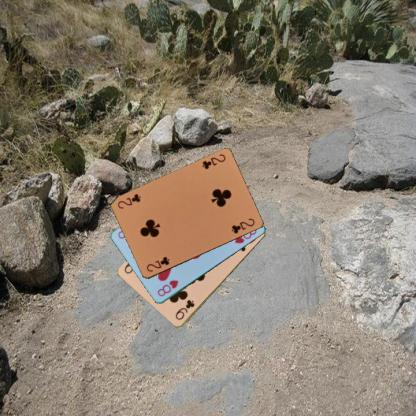2c: (144, 254, 171, 274), (199, 151, 226, 171)
8h: (155, 277, 180, 298)
9c: (173, 297, 196, 322)
